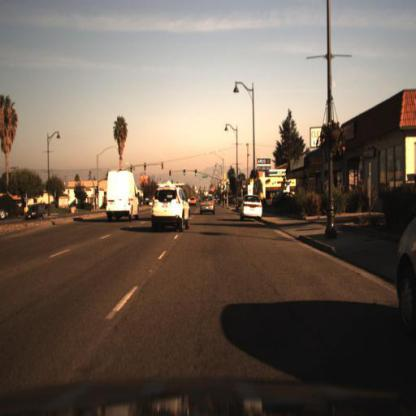biker: (222, 190, 231, 212)
car: (394, 208, 416, 368), (150, 188, 190, 237), (106, 171, 140, 222), (239, 194, 264, 225), (274, 188, 298, 214), (23, 199, 46, 223), (199, 194, 217, 216)
truck: (107, 174, 140, 229)
